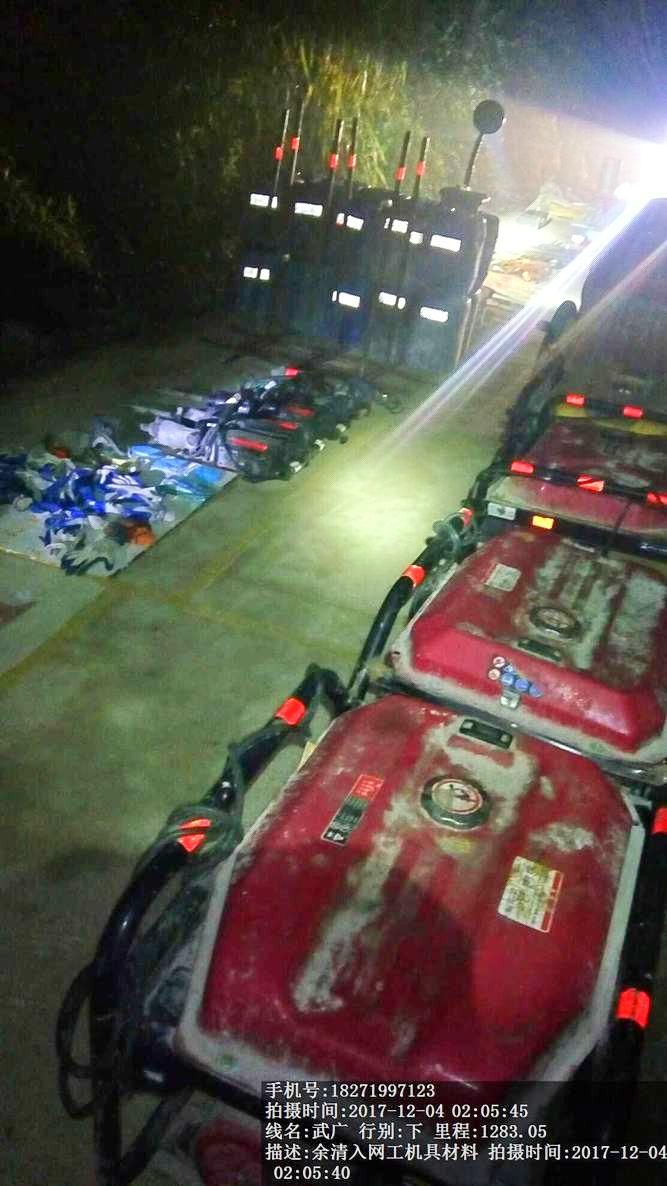DJ: (152, 670, 667, 1081), (373, 510, 664, 727)
